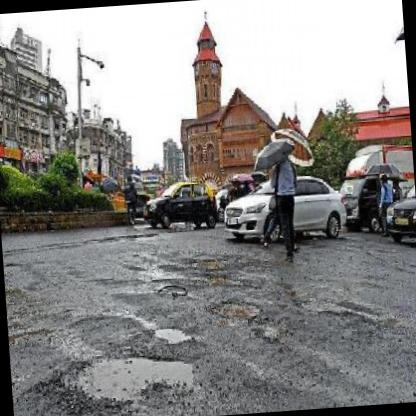pothole: (63, 348, 202, 406), (211, 295, 262, 323), (151, 321, 192, 346), (155, 280, 188, 296)
